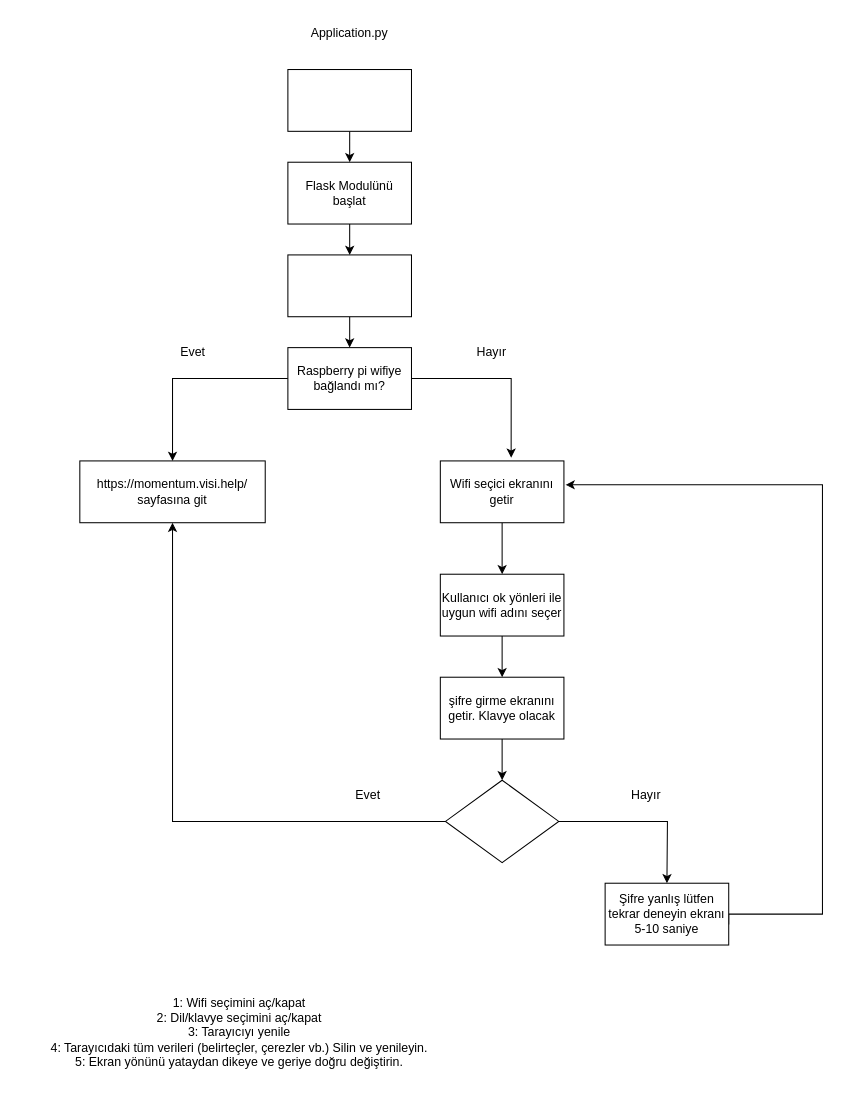
Some shapes in this 849 by 1106 pixel diagram are drawn without their labels. Each missing label, with the centre of its shape:
"network'ü başlat (7saniye bekleme var sonrasında)" goes at (x=349, y=285).
"Web Socket Modulünü başlat" goes at (x=349, y=99).
"Wifi bağlandı mı?" goes at (x=501, y=821).
